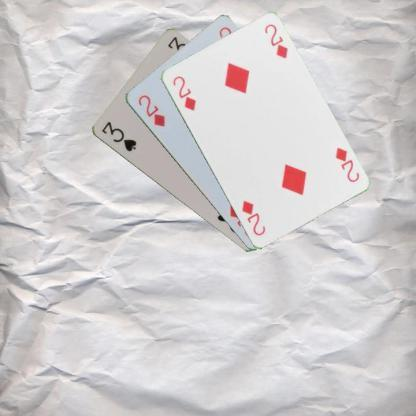2d: (135, 92, 167, 128), (332, 144, 360, 184), (169, 73, 197, 112)
3s: (98, 118, 138, 154)
